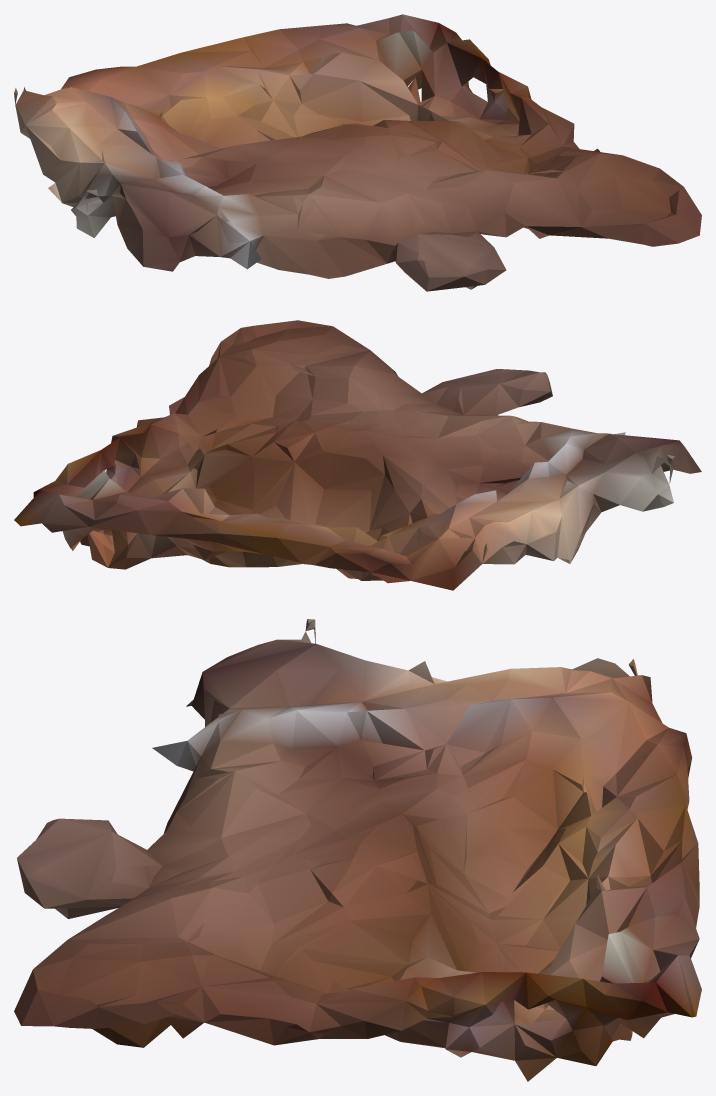
File: rear_run__upper_microwave_right.scan.glb
The picture shows the model from 3 angles, top to bottom: view 1: azimuth 30°, elevation 25°; view 2: azimuth 150°, elevation 25°; view 3: azimuth 270°, elevation 25°; orthographic projection. The views are drawn at different scales.
Visible parts, largest first — view 1: geometry_0; view 2: geometry_0; view 3: geometry_0.
Boxes of the visible parts, x1,y1,x2,y2 form: geometry_0: (14,14,701,291); geometry_0: (14,320,701,590); geometry_0: (14,619,701,1081).
Size of the model in its own units: 0.4146 by 0.102 by 0.3784.
